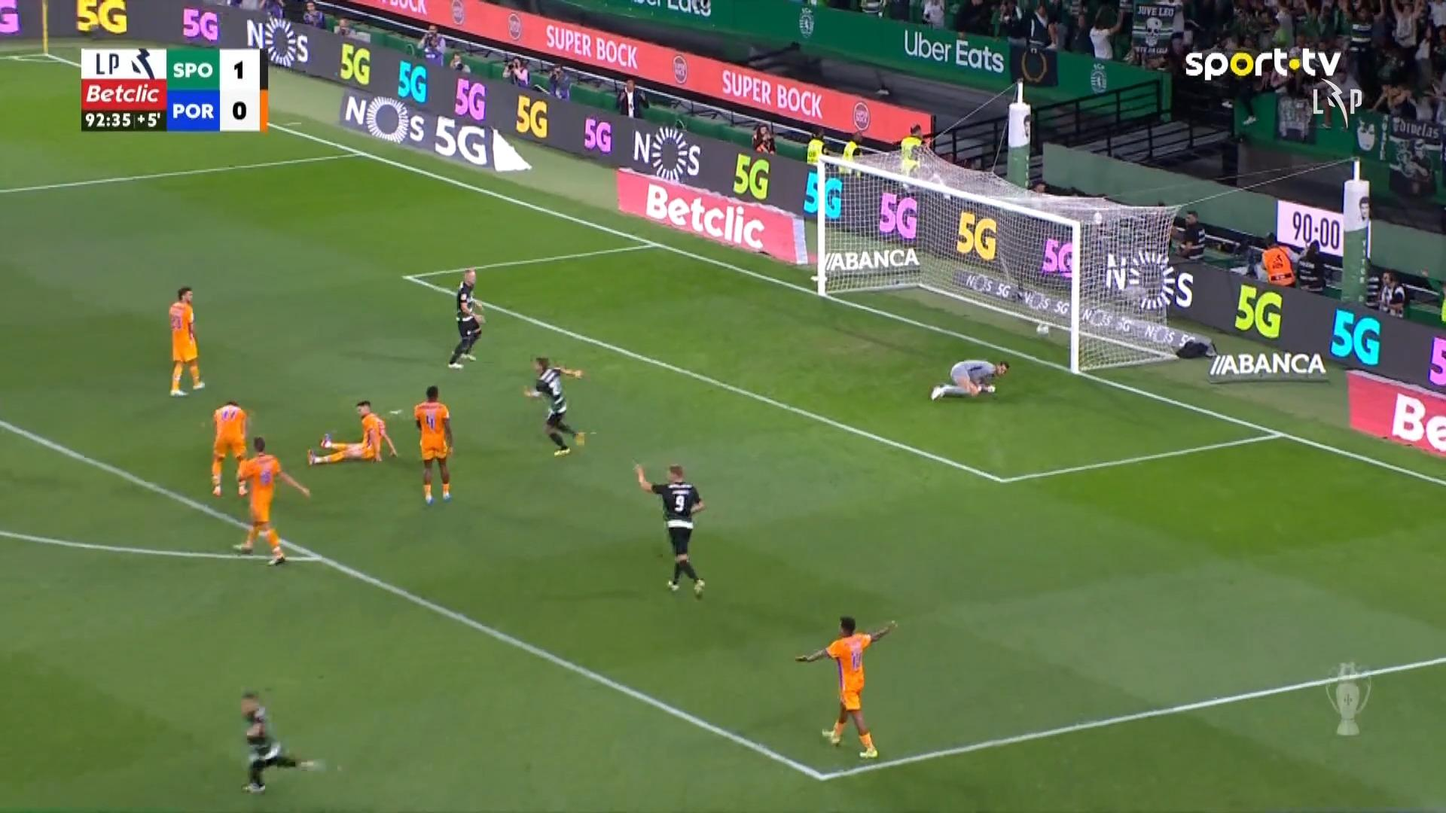ball: (1035, 321, 1051, 337)
goalkeeper: (929, 358, 1010, 400)
player: (795, 614, 897, 758), (232, 435, 311, 565), (633, 461, 706, 599), (238, 688, 321, 793), (522, 355, 586, 456), (305, 400, 398, 466), (413, 385, 453, 505), (167, 286, 206, 397), (209, 400, 249, 496), (447, 268, 484, 369), (898, 123, 926, 190)
